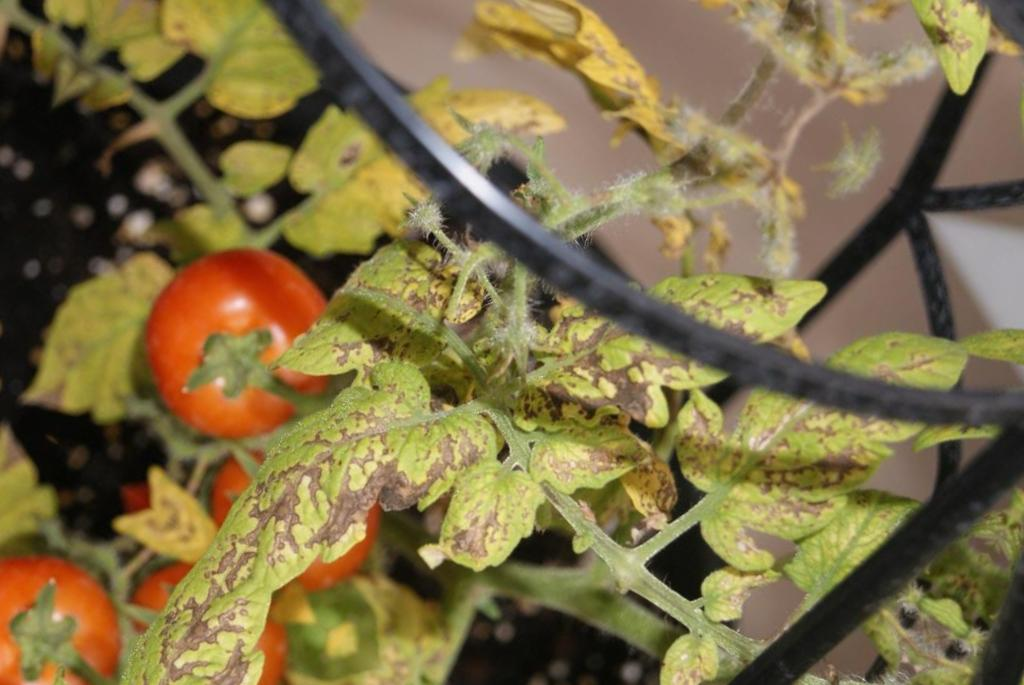Tomato leaf bacterial spot: (620, 239, 980, 631), (519, 160, 856, 508), (204, 302, 530, 648), (276, 205, 492, 437), (411, 439, 566, 606)
